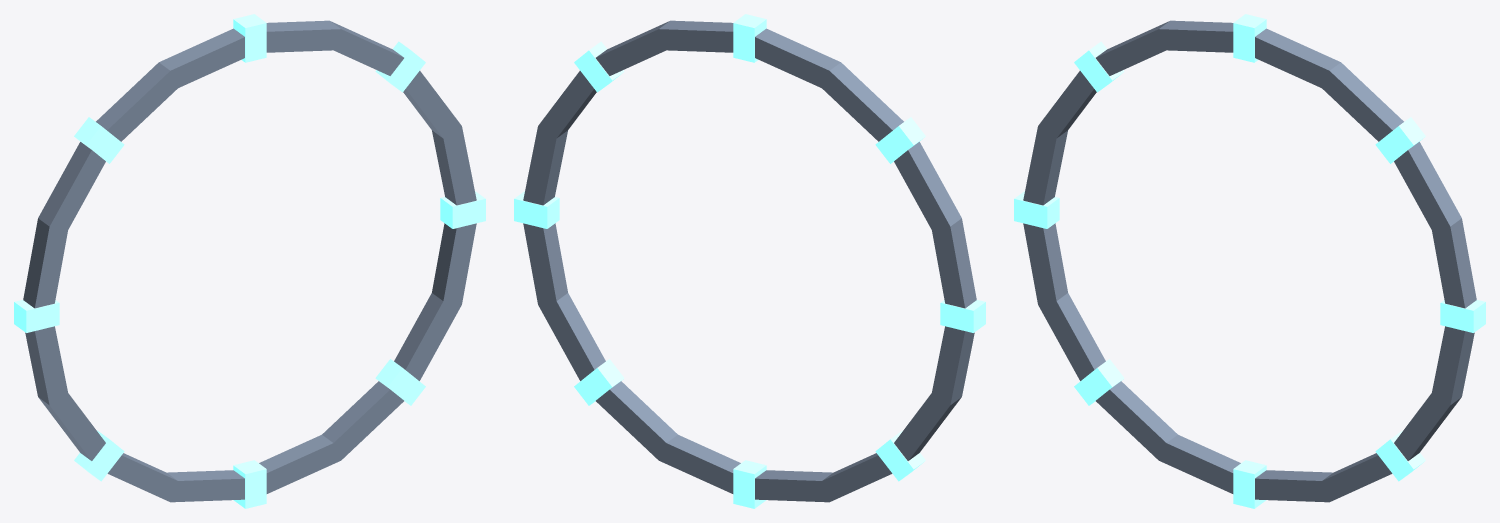
Rendered from dc_elder_ring.glb.
The picture shows the model from 3 angles, left to right: view 1: azimuth 30°, elevation 25°; view 2: azimuth 150°, elevation 25°; view 3: azimuth 330°, elevation 25°; orthographic projection.
Visible parts, largest first — view 1: part.dc_elder_ring; view 2: part.dc_elder_ring; view 3: part.dc_elder_ring.
Part boxes in pixels (<box>): part.dc_elder_ring: <box>14,14,485,508</box>; part.dc_elder_ring: <box>514,14,985,508</box>; part.dc_elder_ring: <box>1014,14,1485,508</box>.
Size of the model in its own units: 1.94 by 1.94 by 0.09.
